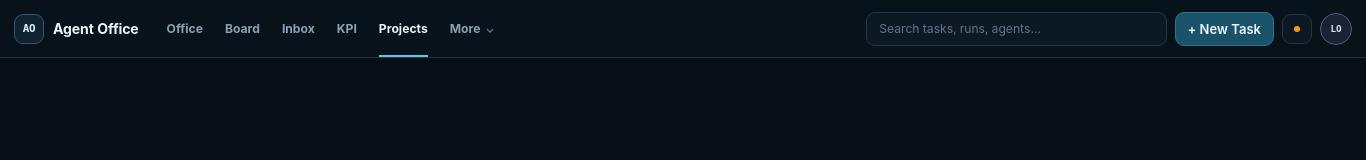
client-only global search › degrades empty registries to no results and closes on Escape
Type "a" into the search field named "Search tasks, runs, and agents" at (1016, 28), box top-left (866, 12), bottom-right (1167, 46)
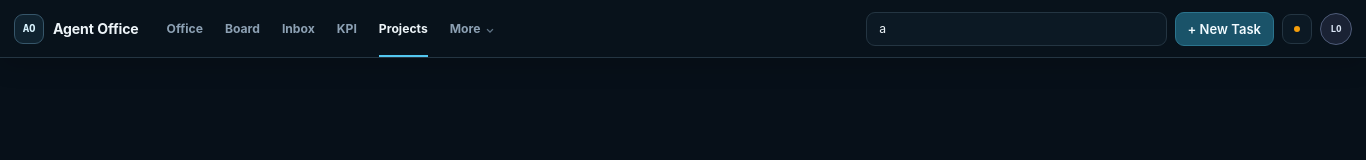
Replace the text in the search field named "Search tasks, runs, and agents" with "cashback" at (1016, 28), box top-left (866, 12), bottom-right (1167, 46)
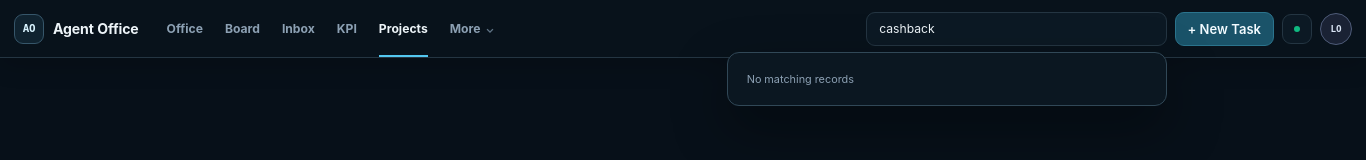
Check: the text "No matching records" is shown, box top-left (747, 72), bottom-right (854, 86)
Press Escape in the search field named "Search tasks, runs, and agents", box top-left (866, 12), bottom-right (1167, 46)
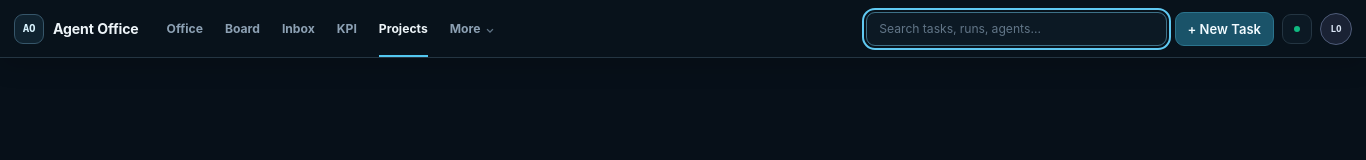
Check: the list is gone
Check: the search field named "Search tasks, runs, and agents" is empty, box top-left (866, 12), bottom-right (1167, 46)
